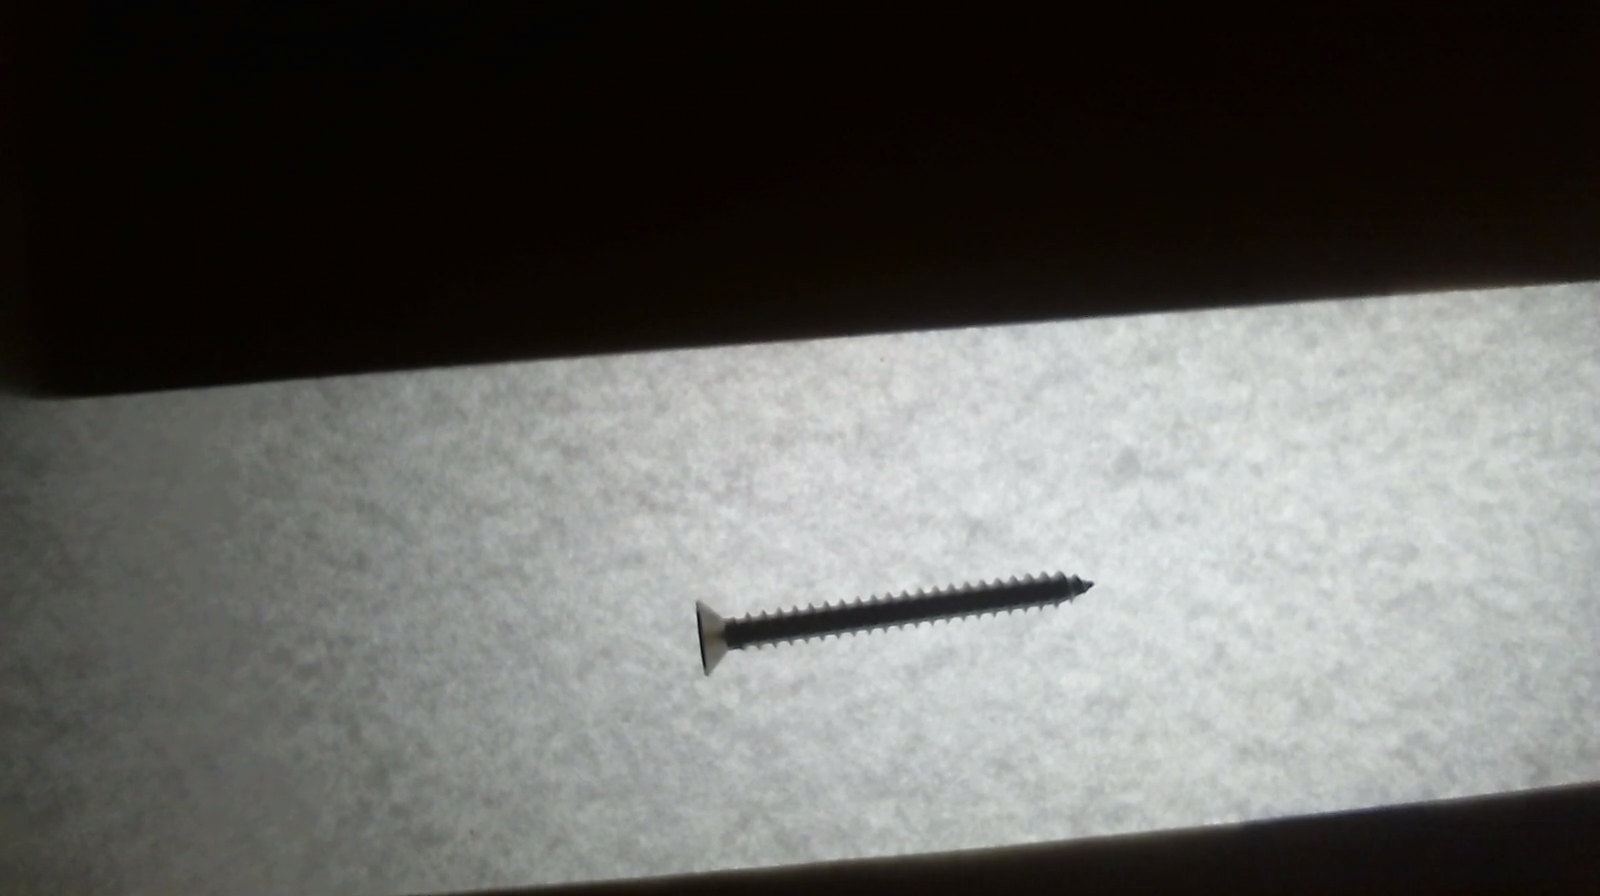S002: (675, 553, 1115, 686)
